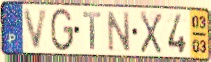4: (166, 12, 188, 56)
G: (50, 7, 75, 53)
N: (105, 9, 132, 53)
T: (82, 11, 102, 51)
V: (22, 8, 50, 51)
X: (139, 9, 164, 55)
